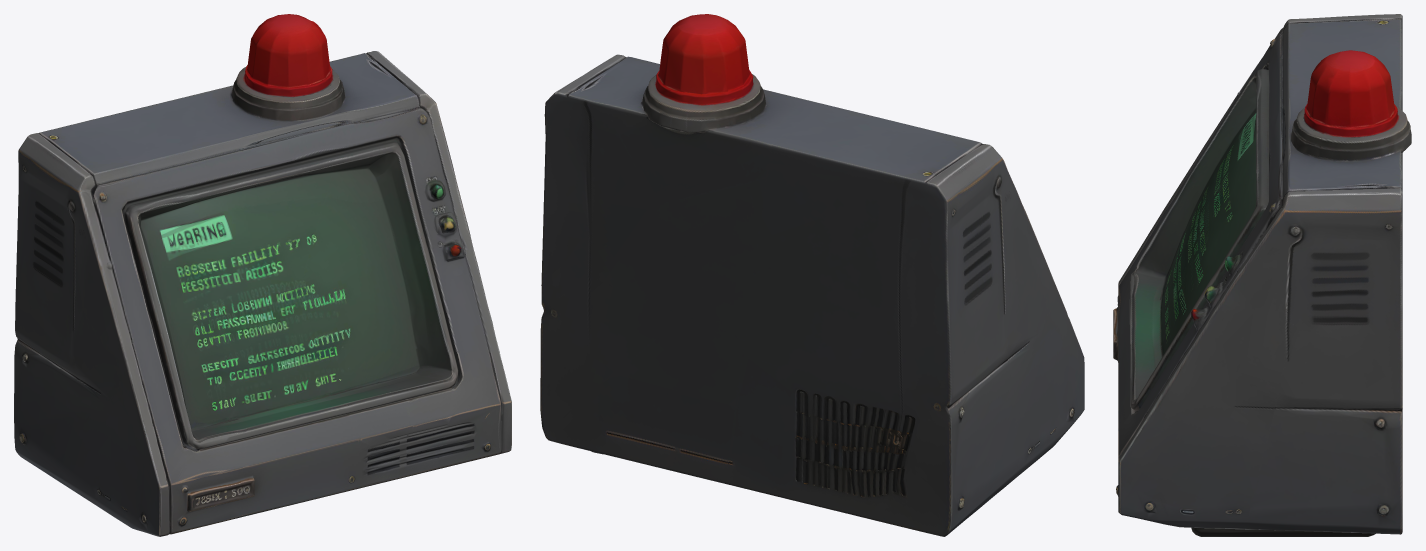
Rendered from sencor.glb.
3 renders of one model, left to right at view 1: azimuth 30°, elevation 25°; view 2: azimuth 150°, elevation 25°; view 3: azimuth 270°, elevation 25°, orthographic. The views are drawn at different scales.
Visible parts, largest first — view 1: tripo_node_c6dded90-31d5-4aee-b904-285d07633064; view 2: tripo_node_c6dded90-31d5-4aee-b904-285d07633064; view 3: tripo_node_c6dded90-31d5-4aee-b904-285d07633064.
Part boxes in pixels (<box>): tripo_node_c6dded90-31d5-4aee-b904-285d07633064: <box>14,14,511,536</box>; tripo_node_c6dded90-31d5-4aee-b904-285d07633064: <box>540,14,1084,536</box>; tripo_node_c6dded90-31d5-4aee-b904-285d07633064: <box>1113,14,1411,536</box>.
Size of the model in its own units: 0.9645 by 0.9971 by 0.6242.
Materials: 1 (1 with a texture image).
